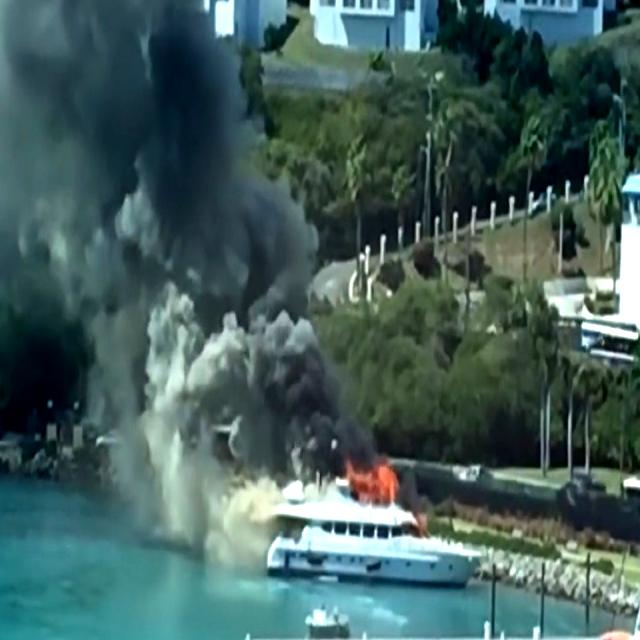smoke: (0, 28, 220, 322), (125, 214, 310, 510), (0, 0, 169, 145)
